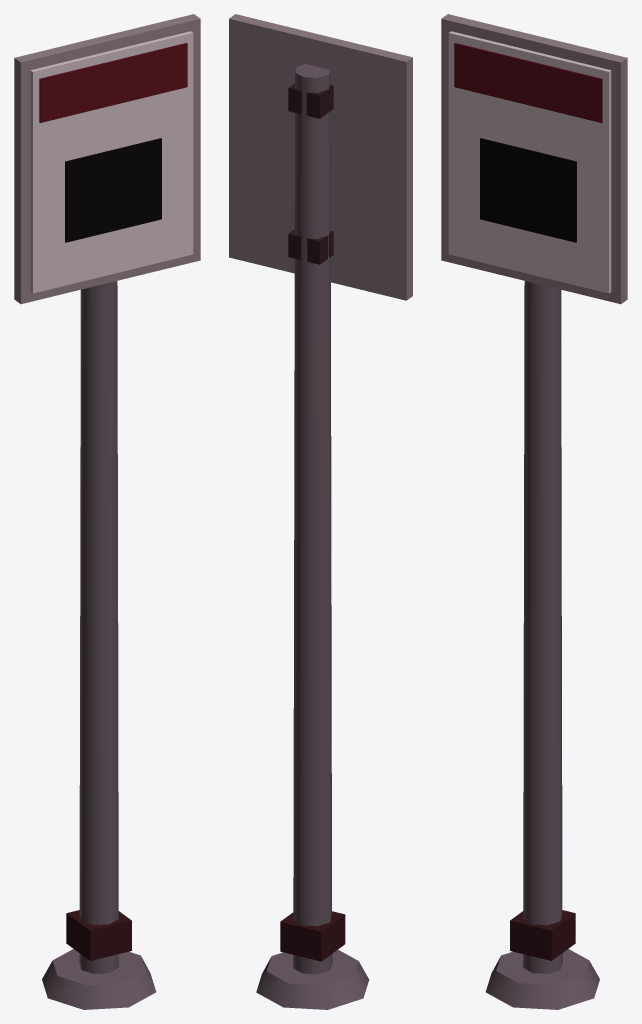
File: SM_BusStopSign_01.obj
3 renders of one model, left to right at view 1: azimuth 30°, elevation 25°; view 2: azimuth 150°, elevation 25°; view 3: azimuth 330°, elevation 25°, orthographic.
Visible parts, largest first — view 1: post, flag_face, flag_plate, route_number, flag_band, foot_flange, post_collar; view 2: flag_plate, post, foot_flange, post_collar, bracket_upper, bracket_lower; view 3: post, flag_face, flag_plate, route_number, flag_band, foot_flange, post_collar.
Boxes of the visible parts, <box> form: post: <box>79,281,118,973</box>; flag_face: <box>30,31,193,293</box>; flag_plate: <box>14,14,200,304</box>; route_number: <box>65,138,161,242</box>; flag_band: <box>39,43,187,122</box>; foot_flange: <box>42,949,156,1009</box>; post_collar: <box>66,910,131,960</box>; flag_plate: <box>229,14,412,300</box>; post: <box>293,64,332,974</box>; foot_flange: <box>256,950,369,1009</box>; post_collar: <box>280,911,345,961</box>; bracket_upper: <box>288,83,333,118</box>; bracket_lower: <box>288,229,333,264</box>; post: <box>523,281,562,973</box>; flag_face: <box>448,31,611,293</box>; flag_plate: <box>441,14,627,304</box>; route_number: <box>480,138,576,242</box>; flag_band: <box>454,43,602,122</box>; foot_flange: <box>485,949,599,1009</box>; post_collar: <box>510,910,575,960</box>.
Size of the model in its own units: 0.56 by 2.84 by 0.32.
